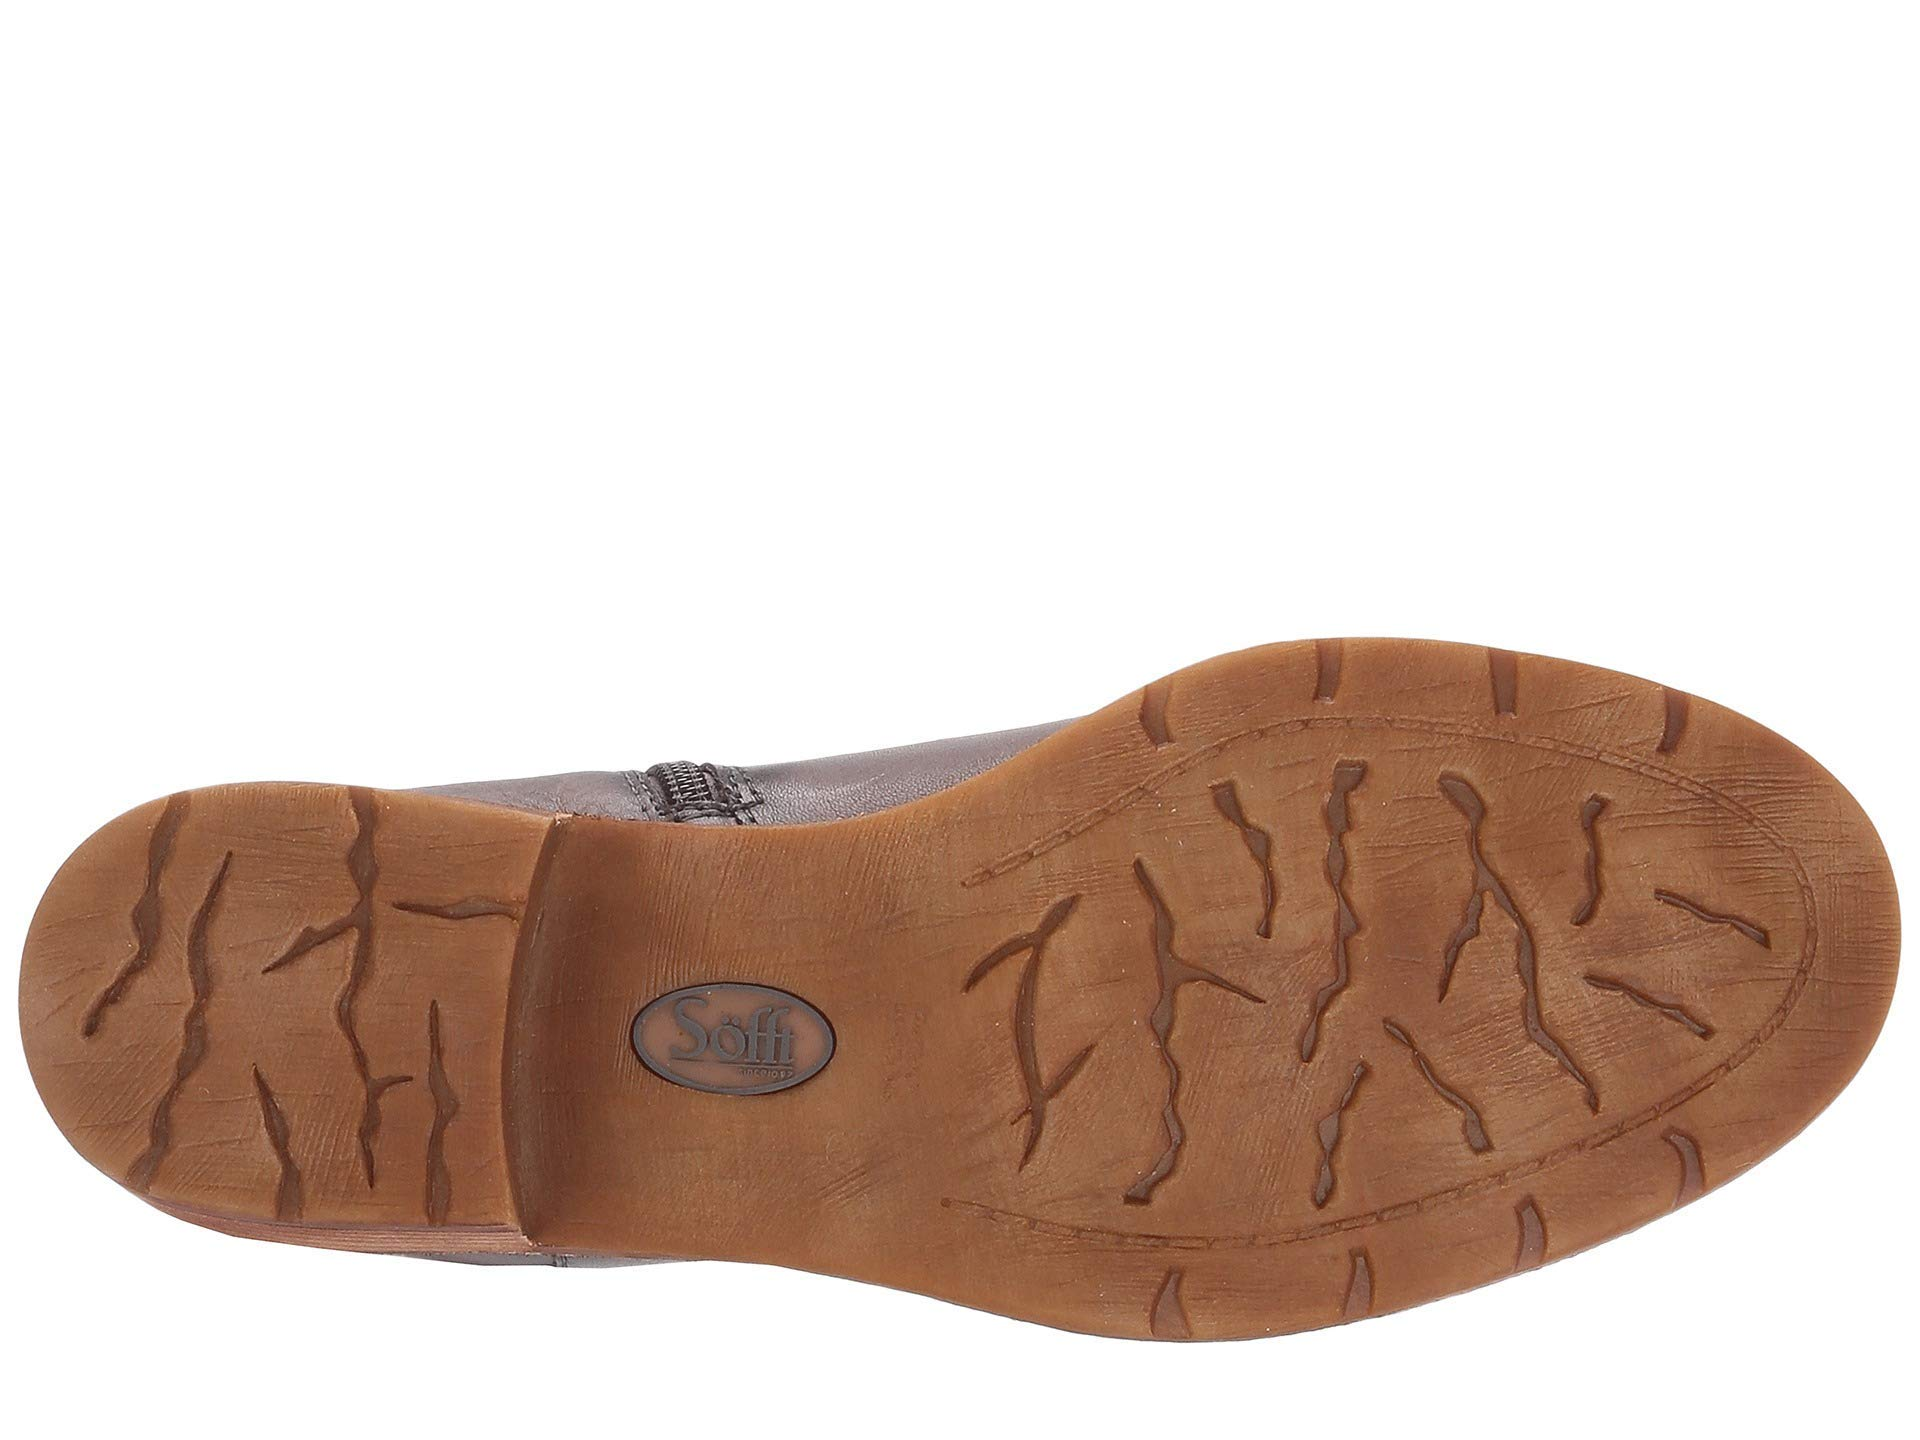circle: (547, 932, 921, 1150)
text: (547, 932, 921, 1150)
